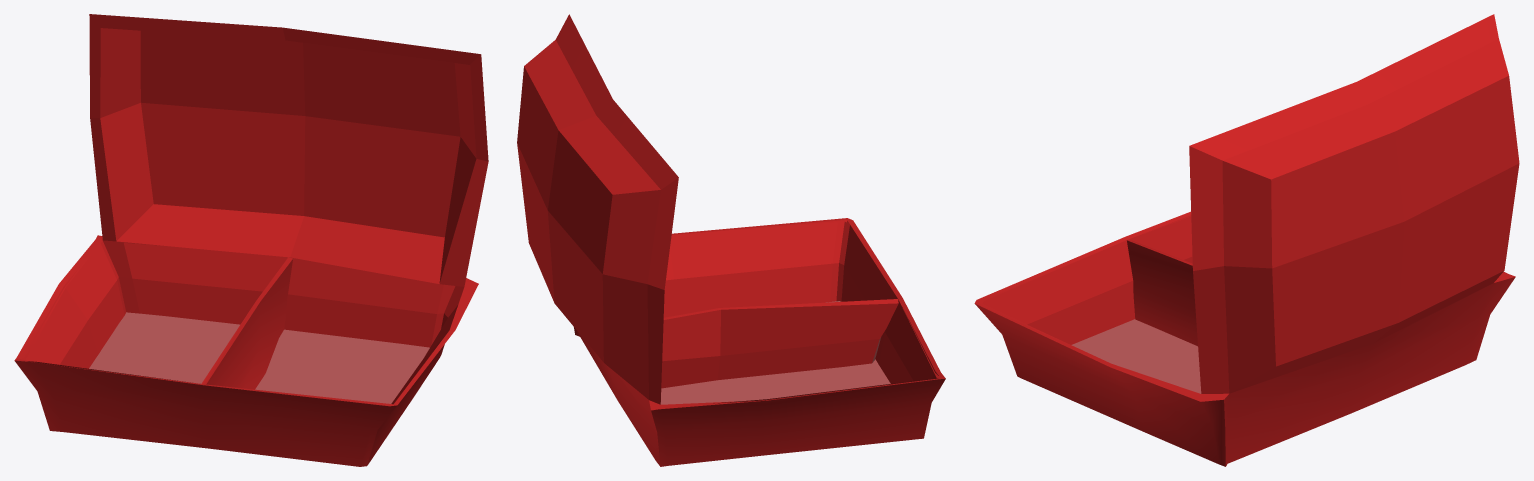
Rendered from Food_Takeout_Container.fbx.
3 renders of one model, left to right at view 1: azimuth 30°, elevation 25°; view 2: azimuth 150°, elevation 25°; view 3: azimuth 270°, elevation 25°, orthographic. The views are drawn at different scales.
Visible parts, largest first — view 1: TakeOut_container; view 2: TakeOut_container; view 3: TakeOut_container.
Boxes of the visible parts, bbox=[...] form: TakeOut_container: bbox=[14, 14, 488, 466]; TakeOut_container: bbox=[517, 14, 945, 466]; TakeOut_container: bbox=[974, 14, 1519, 466].
Size of the model in its own units: 50.76 by 33.92 by 50.29.
